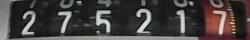digits: (135, 8, 151, 32), (212, 9, 227, 34), (20, 10, 36, 33), (94, 9, 110, 32), (56, 10, 72, 32), (176, 9, 185, 32)
